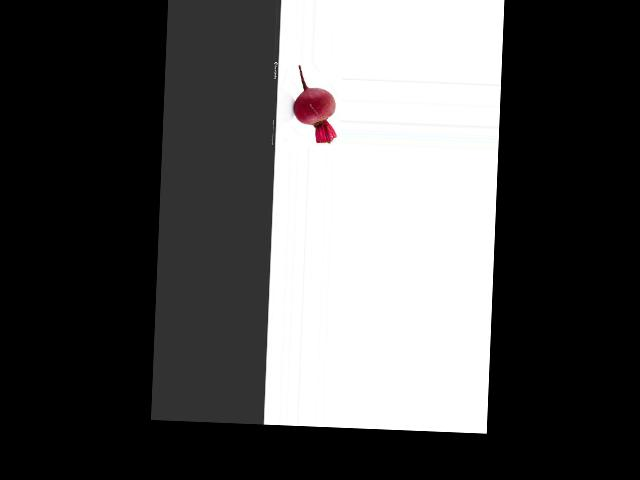beet: (292, 65, 338, 144)
